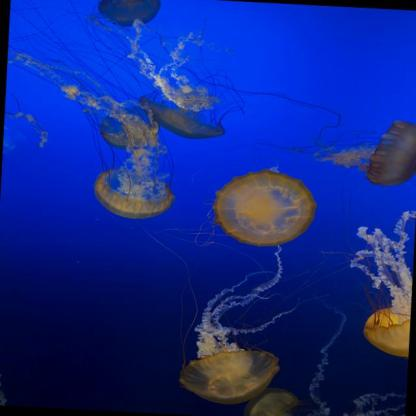jellyfish: (212, 166, 319, 250), (176, 344, 282, 408), (93, 166, 174, 221), (136, 95, 227, 140), (365, 116, 415, 191), (362, 306, 410, 360), (98, 109, 157, 151), (95, 0, 160, 30), (242, 384, 300, 416)
